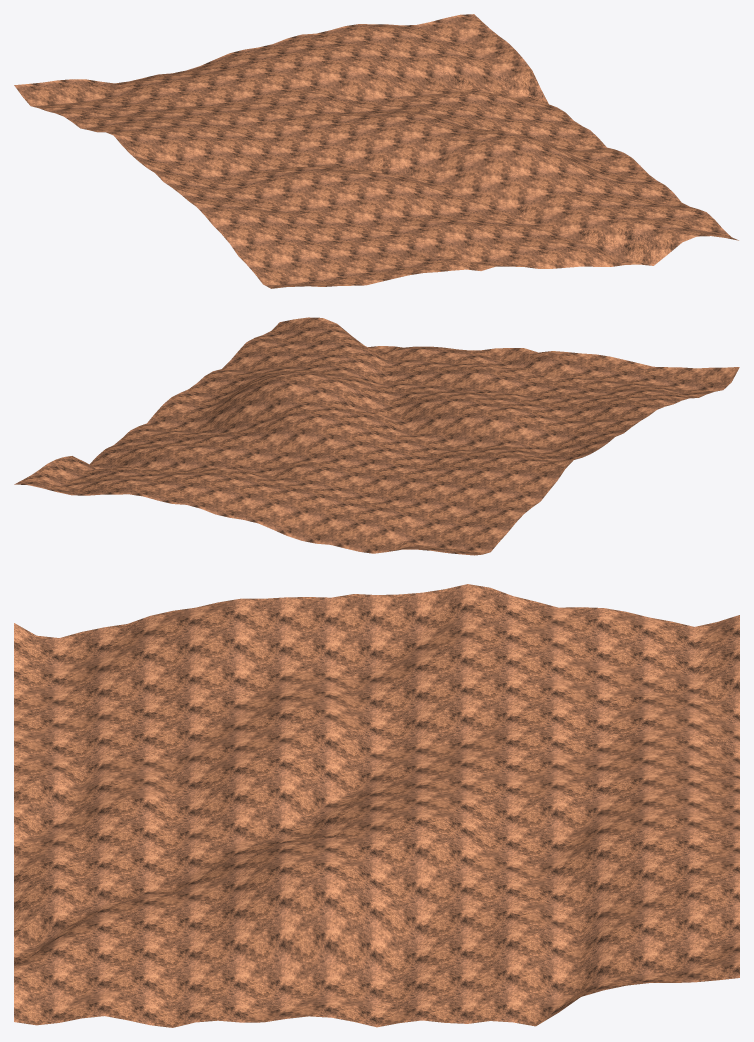
The model's file is terrain_00_00.dae.
3 renders of one model, top to bottom at view 1: azimuth 30°, elevation 25°; view 2: azimuth 150°, elevation 25°; view 3: azimuth 270°, elevation 25°, orthographic. The views are drawn at different scales.
Visible parts, largest first — view 1: terrain_00_00-node; view 2: terrain_00_00-node; view 3: terrain_00_00-node.
Part boxes in pixels (box(x1,y1,x2,y2)): terrain_00_00-node: box(14, 14, 738, 288); terrain_00_00-node: box(14, 317, 739, 555); terrain_00_00-node: box(14, 584, 739, 1027).
Bounding box in the file's own units: 128 × 128 × 26.68.
1 material, 1 textured.
